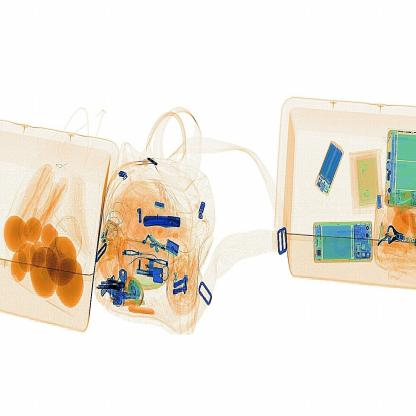knife: (141, 212, 187, 235)
